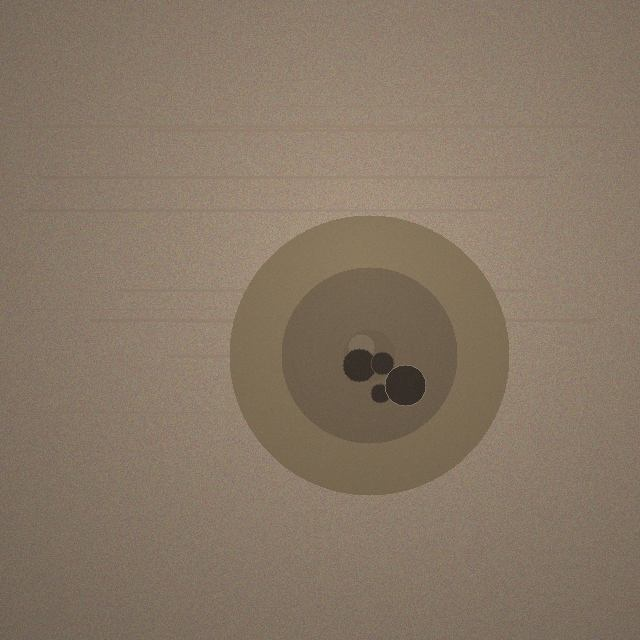shrinkage: (229, 215, 509, 495)
